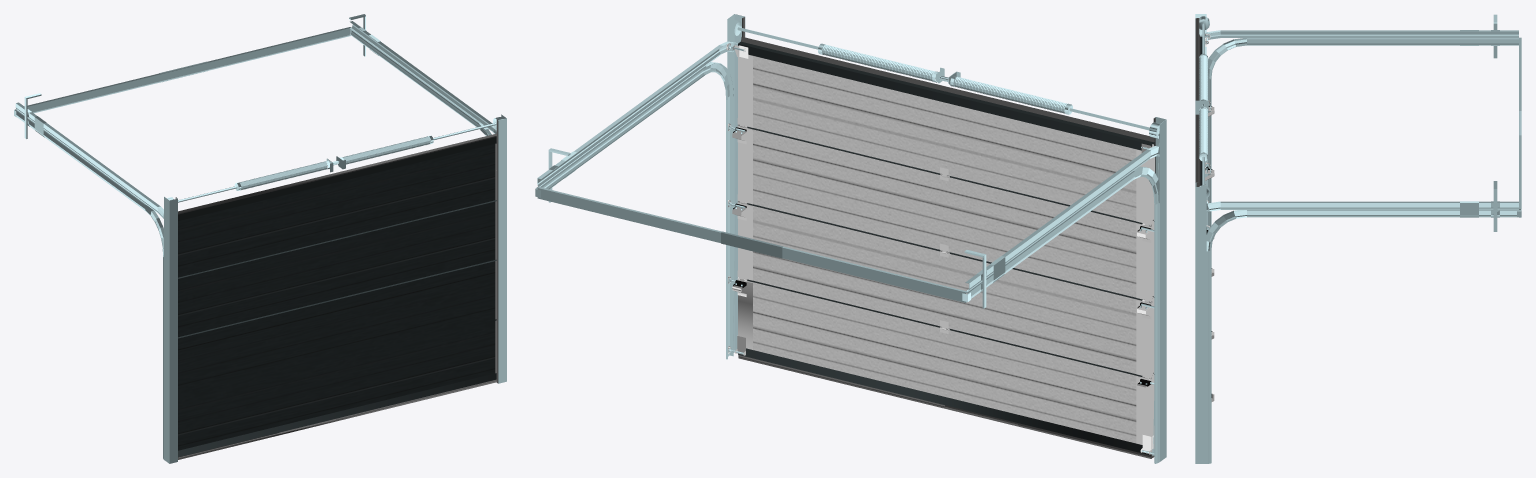
3 renders of one model, left to right at view 1: azimuth 30°, elevation 25°; view 2: azimuth 150°, elevation 25°; view 3: azimuth 270°, elevation 25°, orthographic. The views are drawn at different scales.
Visible parts, largest first — view 1: painel1, painel4, painel3, painel2, baliza, d_mola, e_mola, barra_tracao; view 2: painel1, painel4, painel2, painel3, baliza, e_mola, d_mola, barra_tracao; view 3: baliza, e_mola, d_mola, barra_tracao.
Part boxes in pixels (box(x1,y1,x2,y2)): painel1: box(178, 133, 496, 277); painel4: box(178, 319, 496, 459); painel3: box(178, 259, 496, 396); painel2: box(178, 200, 496, 337); baliza: box(14, 14, 506, 463); d_mola: box(239, 161, 327, 189); e_mola: box(342, 136, 430, 164); barra_tracao: box(167, 117, 502, 202); painel1: box(732, 37, 1154, 226); painel4: box(732, 277, 1154, 458); painel2: box(732, 124, 1154, 302); painel3: box(732, 201, 1154, 378); baliza: box(535, 14, 1166, 463); e_mola: box(822, 44, 935, 81); d_mola: box(954, 77, 1067, 113); barra_tracao: box(727, 19, 1159, 138); baliza: box(1195, 14, 1521, 463); e_mola: box(1199, 108, 1207, 154); d_mola: box(1199, 55, 1207, 100); barra_tracao: box(1199, 16, 1209, 197).
Bounding box in the file's own units: 299 × 222 × 237.
1 material, 1 textured.
